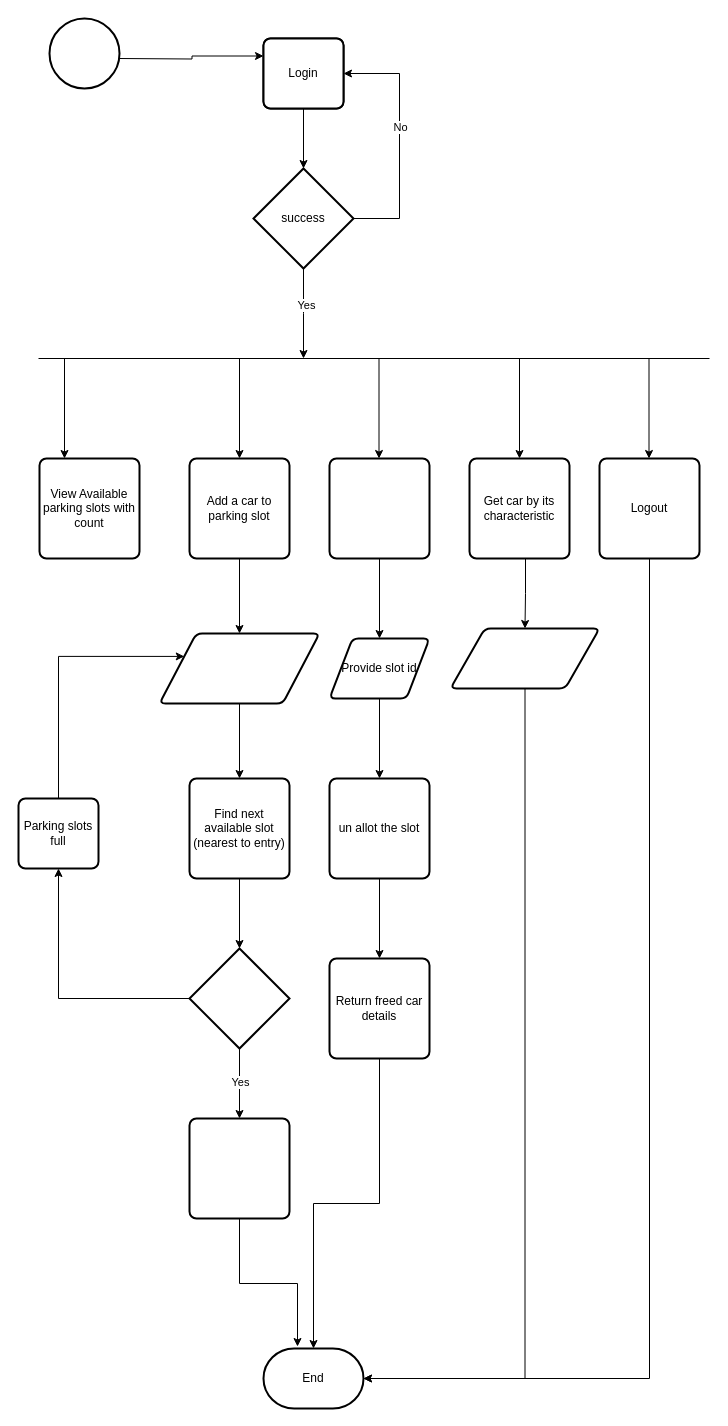
The diagram is 728 pixels wide and 1426 high, and some of its shapes have lost their labels. The shapes that lost their labels are listed below. From the top down, each one's centre as x and y in pixels, then its label:
the point at 84,53: Start
the point at 379,508: Un park a car from a slot
the point at 239,668: Add Number, Color and Type
the point at 524,658: Get cars by their color,type,number
the point at 239,998: slot found
the point at 239,1168: Add car to the slot and return slot ID (position)
